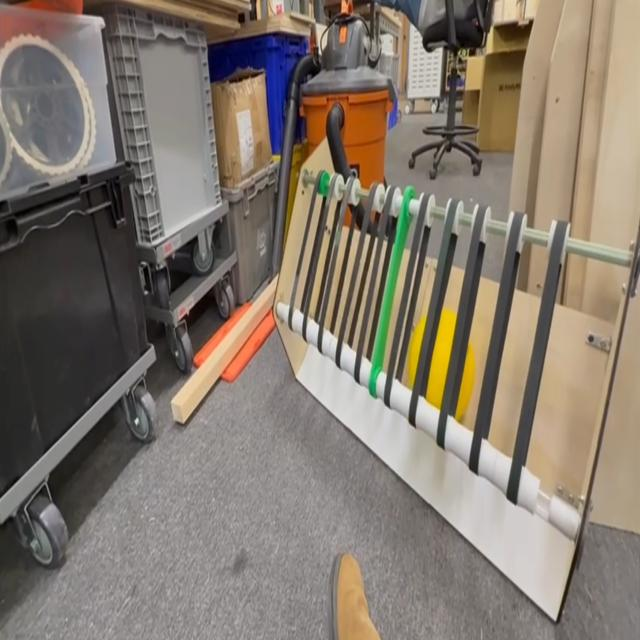Fuel: (408, 306, 475, 423)
